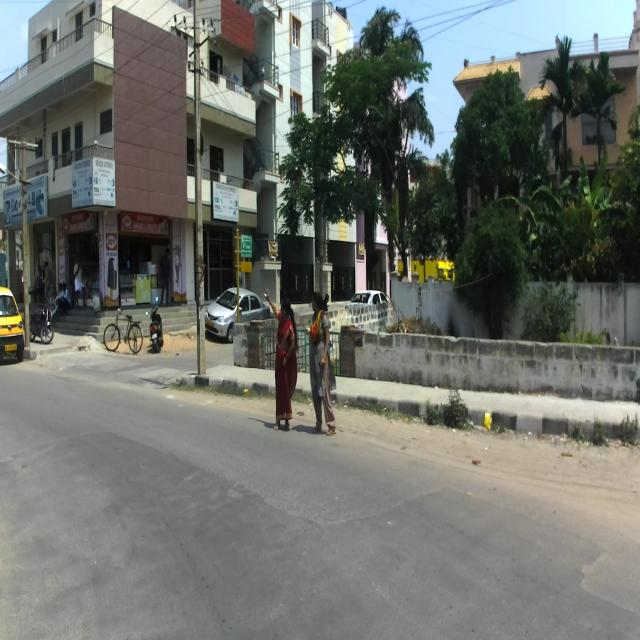Car_Toyota: (203, 286, 271, 342)
scooter: (145, 296, 163, 353)
truck: (0, 285, 26, 367)
